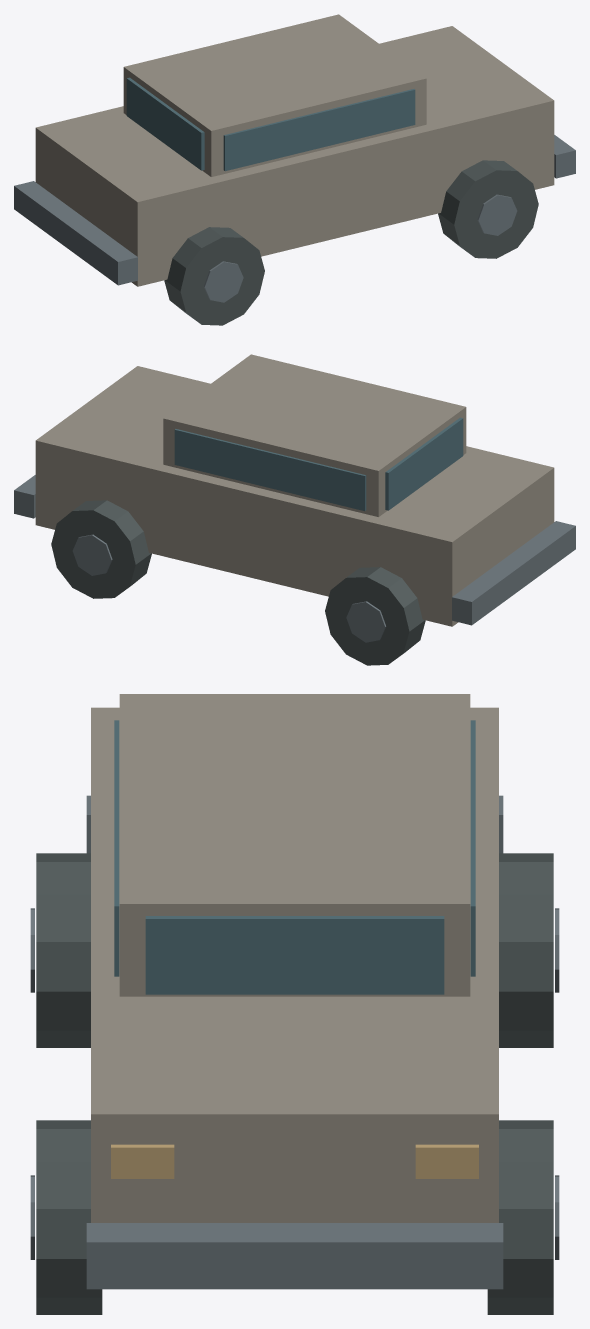
Rendered from vehicle.glb.
3 renders of one model, top to bottom at view 1: azimuth 30°, elevation 25°; view 2: azimuth 150°, elevation 25°; view 3: azimuth 270°, elevation 25°, orthographic. The views are drawn at different scales.
Visible parts, largest first — view 1: vehicle; view 2: vehicle; view 3: vehicle.
Part boxes in pixels (x1,y1,x2,y2): vehicle: (14, 14, 575, 325); vehicle: (14, 354, 575, 665); vehicle: (30, 694, 559, 1314).
Bounding box in the file's own units: 3.68 × 1.36 × 1.84.
